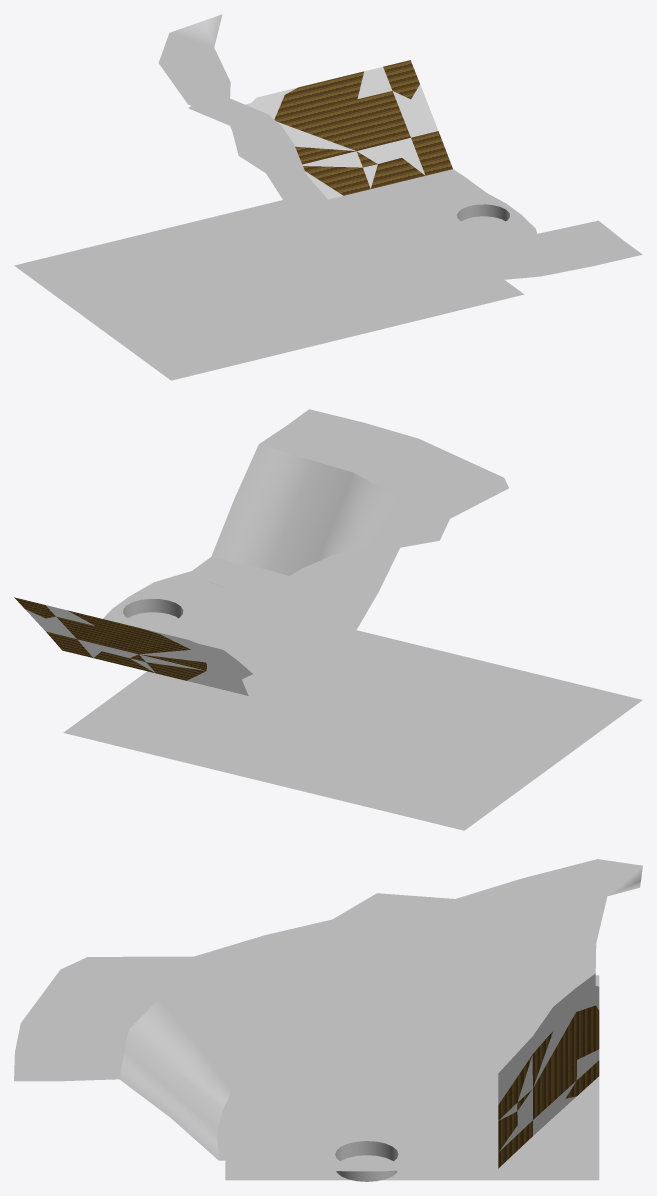
File: leagin02_00_02.obj
3 renders of one model, top to bottom at view 1: azimuth 30°, elevation 25°; view 2: azimuth 150°, elevation 25°; view 3: azimuth 270°, elevation 25°, orthographic. The views are drawn at different scales.
Visible parts, largest first — view 1: out38_t04k_1_lay0_QUADS_VisGroup0, pk_l_iwa5_1_lay0_QUADS_VisGroup0, out32_u_kaida_3_lay0_QUADS_VisGroup0, out32_u_kaida_3_lay0_TRIS_VisGroup0, out38_t04_1_lay0_QUADS_VisGroup0, pk_l_iwa5_1_lay0_TRIS_VisGroup0, pk_l_iwa3_1_lay0_QUADS_VisGroup0, out32_u_k6_1_lay0_QUADS_VisGroup0, pk_l_iwa3_1_lay0_TRIS_VisGroup0, out32_u_k6_1_lay0_TRIS_VisGroup0, out38_t04_1_lay0_TRIS_VisGroup0, out32_han1_1_lay0_QUADS_VisGroup0 (+1 smaller); view 2: out38_t04k_1_lay0_QUADS_VisGroup0, pk_l_iwa3_1_lay0_QUADS_VisGroup0, pk_l_iwa5_1_lay0_QUADS_VisGroup0, pk_l_iwa3_1_lay0_TRIS_VisGroup0, out38_t04_1_lay0_TRIS_VisGroup0, out32_u_kaida_3_lay0_QUADS_VisGroup0, out32_u_kaida_3_lay0_TRIS_VisGroup0, out38_t04_1_lay0_QUADS_VisGroup0, out32_u_k7_1_lay0_QUADS_VisGroup0, out32_han1_1_lay0_QUADS_VisGroup0, out32_u_k6_1_lay0_QUADS_VisGroup0, out32_u_k6_1_lay0_TRIS_VisGroup0 (+2 smaller); view 3: pk_l_iwa3_1_lay0_QUADS_VisGroup0, pk_l_iwa5_1_lay0_QUADS_VisGroup0, pk_l_iwa3_1_lay0_TRIS_VisGroup0, out38_t04k_1_lay0_QUADS_VisGroup0, out38_t04_1_lay0_QUADS_VisGroup0, out38_t04_1_lay0_TRIS_VisGroup0, pk_l_iwa5_1_lay0_TRIS_VisGroup0, out38_t04kw_1_lay0_QUADS_VisGroup0, out32_u_kaida_3_lay0_QUADS_VisGroup0, out32_u_kaida_3_lay0_TRIS_VisGroup0, out32_han1_1_lay0_QUADS_VisGroup0, out32_u_k7_1_lay0_QUADS_VisGroup0 (+6 smaller).
Boxes of the visible parts, left/top/right/bottom form: out38_t04k_1_lay0_QUADS_VisGroup0: left=14, top=200, right=524, bottom=380; pk_l_iwa5_1_lay0_QUADS_VisGroup0: left=188, top=104, right=642, bottom=286; out32_u_kaida_3_lay0_QUADS_VisGroup0: left=303, top=71, right=452, bottom=195; out32_u_kaida_3_lay0_TRIS_VisGroup0: left=274, top=60, right=419, bottom=167; out38_t04_1_lay0_QUADS_VisGroup0: left=336, top=177, right=535, bottom=243; pk_l_iwa5_1_lay0_TRIS_VisGroup0: left=158, top=14, right=267, bottom=114; pk_l_iwa3_1_lay0_QUADS_VisGroup0: left=216, top=53, right=417, bottom=282; out32_u_k6_1_lay0_QUADS_VisGroup0: left=357, top=67, right=438, bottom=163; pk_l_iwa3_1_lay0_TRIS_VisGroup0: left=209, top=48, right=321, bottom=230; out32_u_k6_1_lay0_TRIS_VisGroup0: left=277, top=122, right=425, bottom=199; out38_t04_1_lay0_TRIS_VisGroup0: left=364, top=193, right=536, bottom=243; out32_han1_1_lay0_QUADS_VisGroup0: left=451, top=202, right=515, bottom=229; out38_t04k_1_lay0_QUADS_VisGroup0: left=63, top=564, right=642, bottom=830; pk_l_iwa3_1_lay0_QUADS_VisGroup0: left=211, top=444, right=407, bottom=688; pk_l_iwa5_1_lay0_QUADS_VisGroup0: left=259, top=409, right=508, bottom=600; pk_l_iwa3_1_lay0_TRIS_VisGroup0: left=233, top=558, right=370, bottom=695; out38_t04_1_lay0_TRIS_VisGroup0: left=103, top=571, right=279, bottom=649; out32_u_kaida_3_lay0_QUADS_VisGroup0: left=46, top=610, right=205, bottom=680; out32_u_kaida_3_lay0_TRIS_VisGroup0: left=14, top=597, right=206, bottom=670; out38_t04_1_lay0_QUADS_VisGroup0: left=112, top=582, right=226, bottom=648; out32_u_k7_1_lay0_QUADS_VisGroup0: left=144, top=629, right=252, bottom=695; out32_han1_1_lay0_QUADS_VisGroup0: left=116, top=596, right=189, bottom=626; out32_u_k6_1_lay0_QUADS_VisGroup0: left=25, top=605, right=137, bottom=658; out32_u_k6_1_lay0_TRIS_VisGroup0: left=77, top=639, right=213, bottom=687; pk_l_iwa3_1_lay0_QUADS_VisGroup0: left=119, top=897, right=606, bottom=1160; pk_l_iwa5_1_lay0_QUADS_VisGroup0: left=14, top=878, right=521, bottom=1081; pk_l_iwa3_1_lay0_TRIS_VisGroup0: left=347, top=896, right=606, bottom=1073; out38_t04k_1_lay0_QUADS_VisGroup0: left=225, top=975, right=599, bottom=1180; out38_t04_1_lay0_QUADS_VisGroup0: left=303, top=1079, right=472, bottom=1171; out38_t04_1_lay0_TRIS_VisGroup0: left=259, top=1080, right=419, bottom=1171; pk_l_iwa5_1_lay0_TRIS_VisGroup0: left=485, top=859, right=642, bottom=932; out38_t04kw_1_lay0_QUADS_VisGroup0: left=217, top=1058, right=498, bottom=1160; out32_u_kaida_3_lay0_QUADS_VisGroup0: left=498, top=1029, right=599, bottom=1168; out32_u_kaida_3_lay0_TRIS_VisGroup0: left=517, top=1005, right=599, bottom=1110; out32_han1_1_lay0_QUADS_VisGroup0: left=328, top=1138, right=405, bottom=1181; out32_u_k7_1_lay0_QUADS_VisGroup0: left=498, top=973, right=599, bottom=1081.
Bounding box in the file's own units: 872 × 382 × 996.
